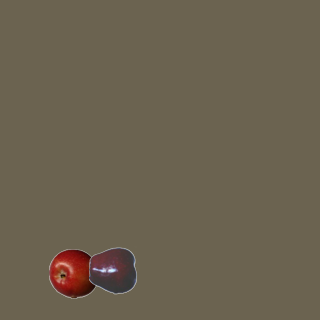Apple Braeburn: (48, 248, 98, 298)
Apple Red Delicious: (88, 245, 138, 295)
